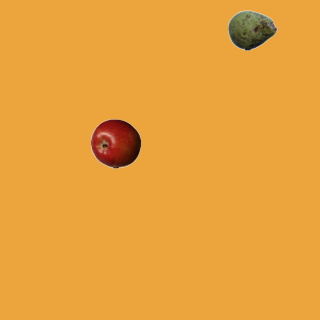Apple Braeburn: (90, 118, 140, 168)
Pear Stone: (227, 5, 277, 55)
